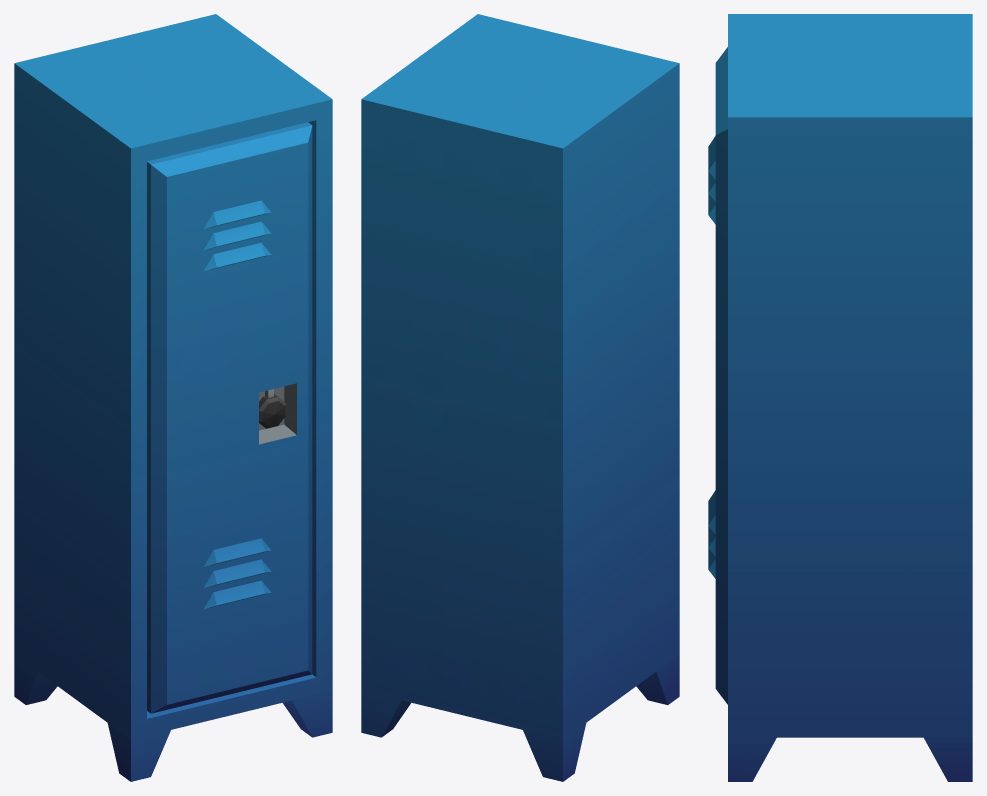
Rendered from Locker_Decorated.gltf.
3 renders of one model, left to right at view 1: azimuth 30°, elevation 25°; view 2: azimuth 150°, elevation 25°; view 3: azimuth 270°, elevation 25°, orthographic. The views are drawn at different scales.
Visible parts, largest first — view 1: Locker_Decorated, Locker_Door_Decorated; view 2: Locker_Decorated; view 3: Locker_Decorated, Locker_Door_Decorated.
Part boxes in pixels (box(x1,y1,x2,y2)): Locker_Decorated: box(14, 14, 332, 781); Locker_Door_Decorated: box(147, 122, 312, 713); Locker_Decorated: box(361, 14, 679, 781); Locker_Decorated: box(728, 14, 972, 781); Locker_Door_Decorated: box(708, 47, 727, 704).
Bounding box in the file's own units: 1 × 3 × 1.08.
Materials: 1 (1 with a texture image).
